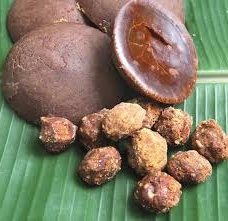hakuru: (4, 24, 123, 129), (112, 0, 199, 105)
